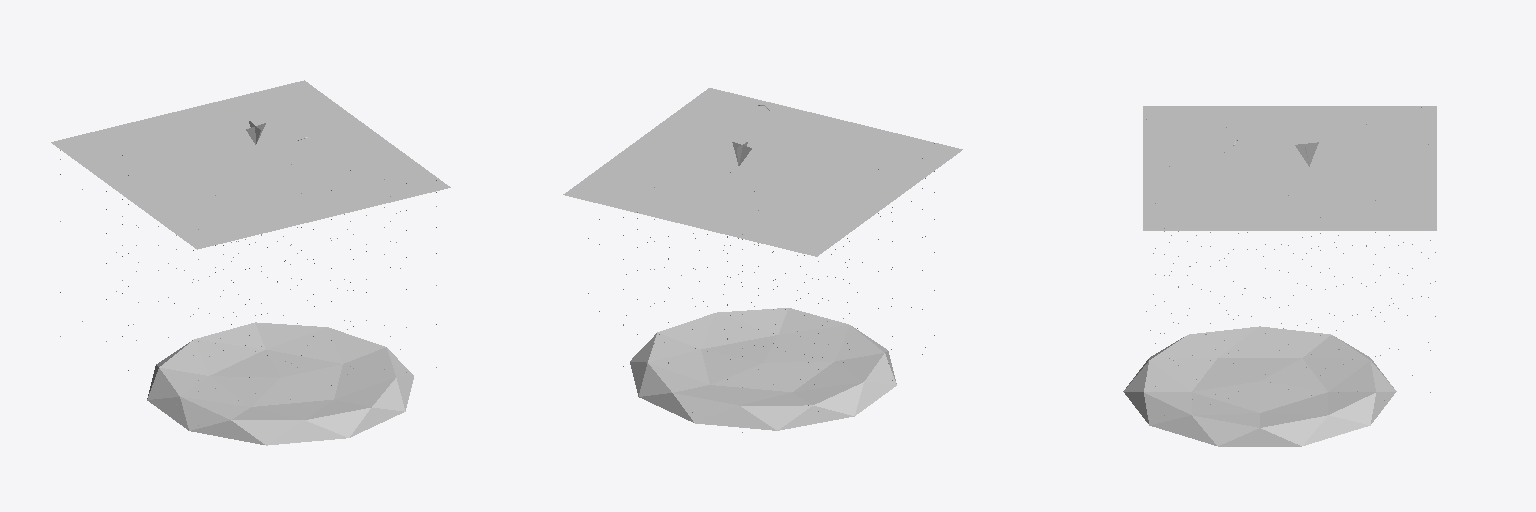
The model's file is snow.obj.
3 renders of one model, left to right at view 1: azimuth 30°, elevation 25°; view 2: azimuth 150°, elevation 25°; view 3: azimuth 270°, elevation 25°, orthographic.
Visible parts, largest first — view 1: Plane, ground_Icosphere; view 2: Plane, ground_Icosphere; view 3: Plane, ground_Icosphere.
Boxes of the visible parts, x1=… form: Plane: x1=51, y1=80, x2=450, y2=249; ground_Icosphere: x1=147, y1=322, x2=413, y2=445; Plane: x1=563, y1=88, x2=962, y2=256; ground_Icosphere: x1=630, y1=308, x2=896, y2=430; Plane: x1=1143, y1=106, x2=1436, y2=230; ground_Icosphere: x1=1123, y1=326, x2=1396, y2=446.
Bounding box in the file's own units: 17 × 16.39 × 18.13.